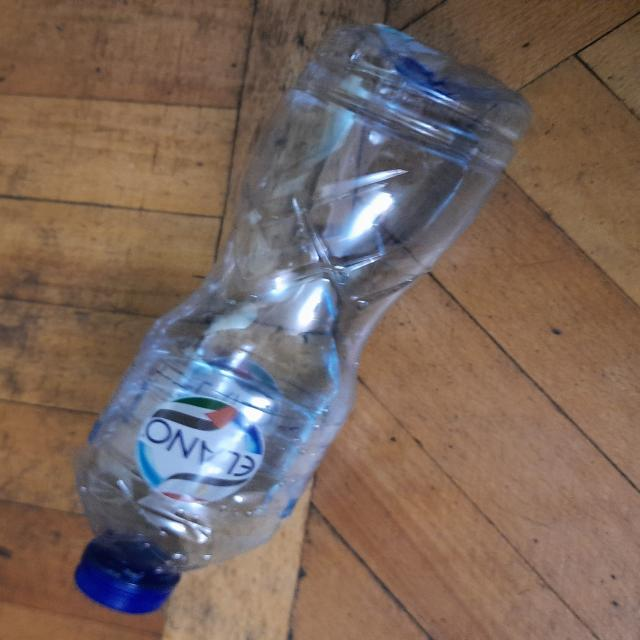plastic: (49, 7, 552, 626), (559, 627, 561, 628)
